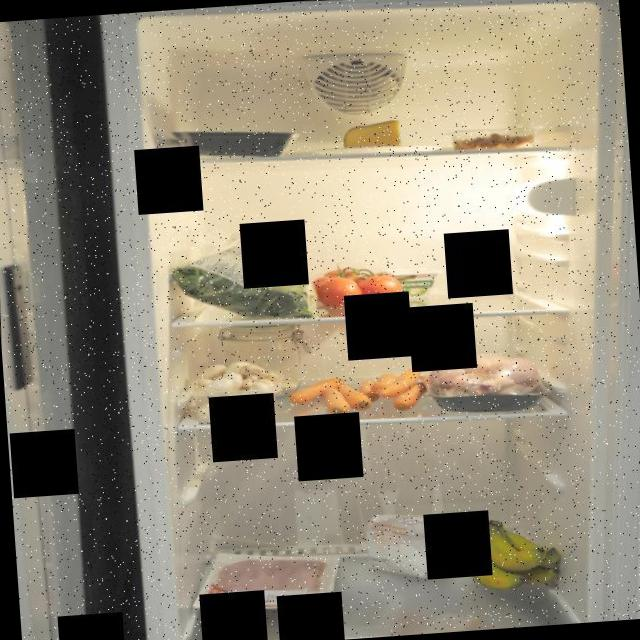Carne cerdo: (202, 550, 332, 614)
Carne pollo: (420, 343, 550, 418)
Champiñones: (178, 355, 298, 435)
Gambas/Langostinos: (448, 128, 538, 154)
Plátano: (458, 516, 562, 596)
Queso: (339, 115, 406, 154)
Tomate: (306, 254, 406, 314)
Zanahoria: (284, 360, 432, 423)
